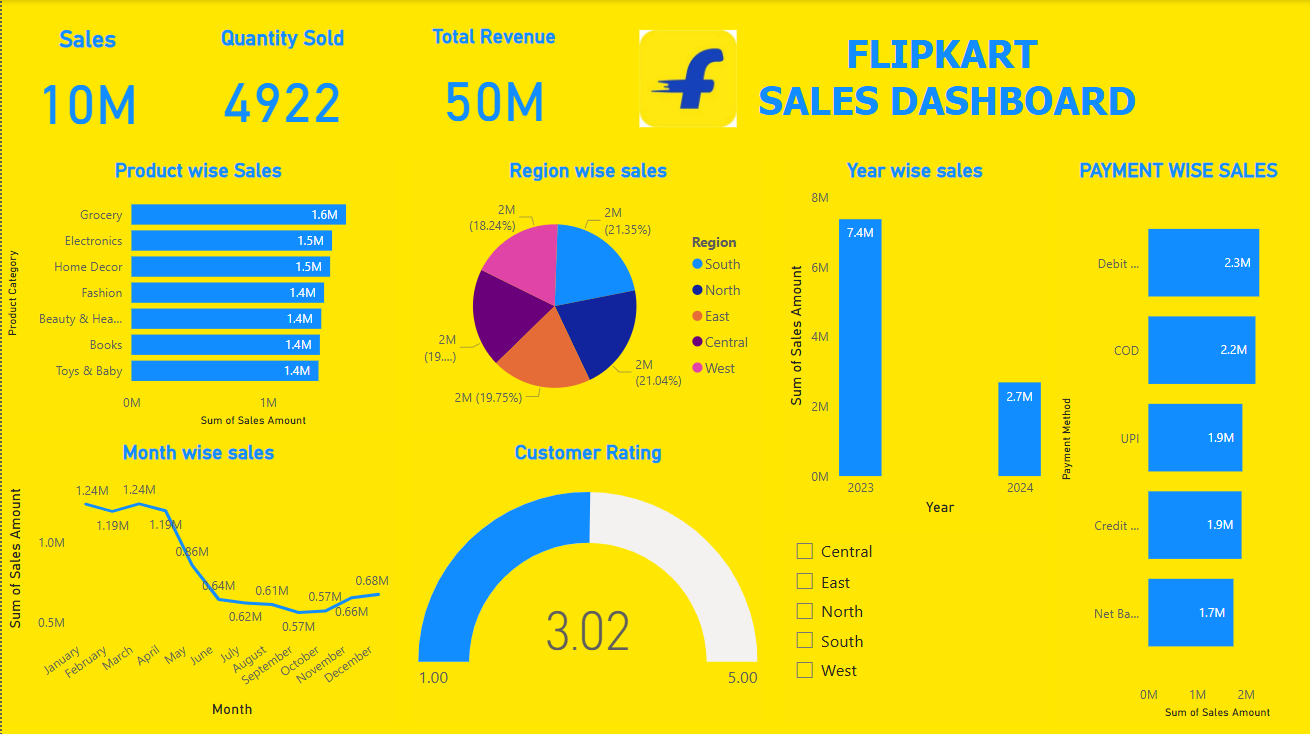

The dashboard page shown, as its layout file describes it:
{"tool":"powerbi","page":{"name":"Page 1","canvas":[1280,720],"ordinal":0},"visuals":[{"type":"card","title":"Sales","fields":{"Values":["Sum(Sheet1.Sales Amount)"]},"box":[0,24.6,167.4,115.7],"z":0},{"type":"card","title":"Quantity Sold","fields":{"Values":["Sum(Sheet1.Quantity Sold)"]},"box":[182.2,24.6,184.6,115.7],"z":1000},{"type":"lineChart","title":"Month wise sales","fields":{"Category":["Sheet1.Order Date.Variation.Date Hierarchy.Month"],"Y":["Sum(Sheet1.Sales Amount)"]},"box":[0,432,384,275.7],"z":2000},{"type":"gauge","title":"Customer Rating","fields":{"Y":["Avg(Sheet1.Customer Rating)"],"MinValue":["Min(Sheet1.Customer Rating)"],"MaxValue":["Max(Sheet1.Customer Rating)"]},"box":[402.5,432,342.2,275.7],"z":3000},{"type":"card","title":"Total Revenue","fields":{"Values":["Sheet1.Revenue"]},"box":[384,24.6,194.5,115.7],"z":4000},{"type":"pieChart","title":"Region wise sales","fields":{"Category":["Sheet1.Region"],"Y":["Sum(Sheet1.Sales Amount)"]},"box":[402.5,155.1,342.2,267.1],"z":5000},{"type":"clusteredBarChart","title":"Product wise Sales","fields":{"Category":["Sheet1.Product Category"],"Y":["Sum(Sheet1.Sales Amount)"]},"box":[0,155.1,384,267.1],"z":6000},{"type":"columnChart","title":"Year wise sales","fields":{"Category":["Sheet1.Order Date.Variation.Date Hierarchy.Year"],"Y":["Sum(Sheet1.Sales Amount)"]},"box":[764.3,155.1,257.2,354.5],"z":7000},{"type":"slicer","title":"Region","fields":{"Values":["Sheet1.Region"]},"box":[764.3,519.4,257.2,188.3],"z":8000},{"type":"textbox","box":[589.5,24.6,670.8,115.7],"z":9000},{"type":"clusteredBarChart","title":"PAYMENT WISE SALES","fields":{"Category":["Sheet1.Payment Method"],"Y":["Sum(Sheet1.Sales Amount)"]},"box":[1031.4,155.1,240,552.6],"z":10000},{"type":"image","box":[618.8,24.5,105.2,105.2],"z":10001}]}

Visuals, with their boxes in screenshot pixels (x1, y1, x2, y2), scaled from the page's 1280x720 canvas onto the 1310x734 screenshot:
"Sales" card: detection(0, 25, 171, 143)
"Quantity Sold" card: detection(186, 25, 375, 143)
"Month wise sales" lineChart: detection(0, 440, 393, 721)
"Customer Rating" gauge: detection(412, 440, 762, 721)
"Total Revenue" card: detection(393, 25, 592, 143)
"Region wise sales" pieChart: detection(412, 158, 762, 430)
"Product wise Sales" clusteredBarChart: detection(0, 158, 393, 430)
"Year wise sales" columnChart: detection(782, 158, 1045, 520)
"Region" slicer: detection(782, 529, 1045, 721)
textbox: detection(603, 25, 1290, 143)
"PAYMENT WISE SALES" clusteredBarChart: detection(1056, 158, 1301, 721)
image: detection(633, 25, 741, 132)
